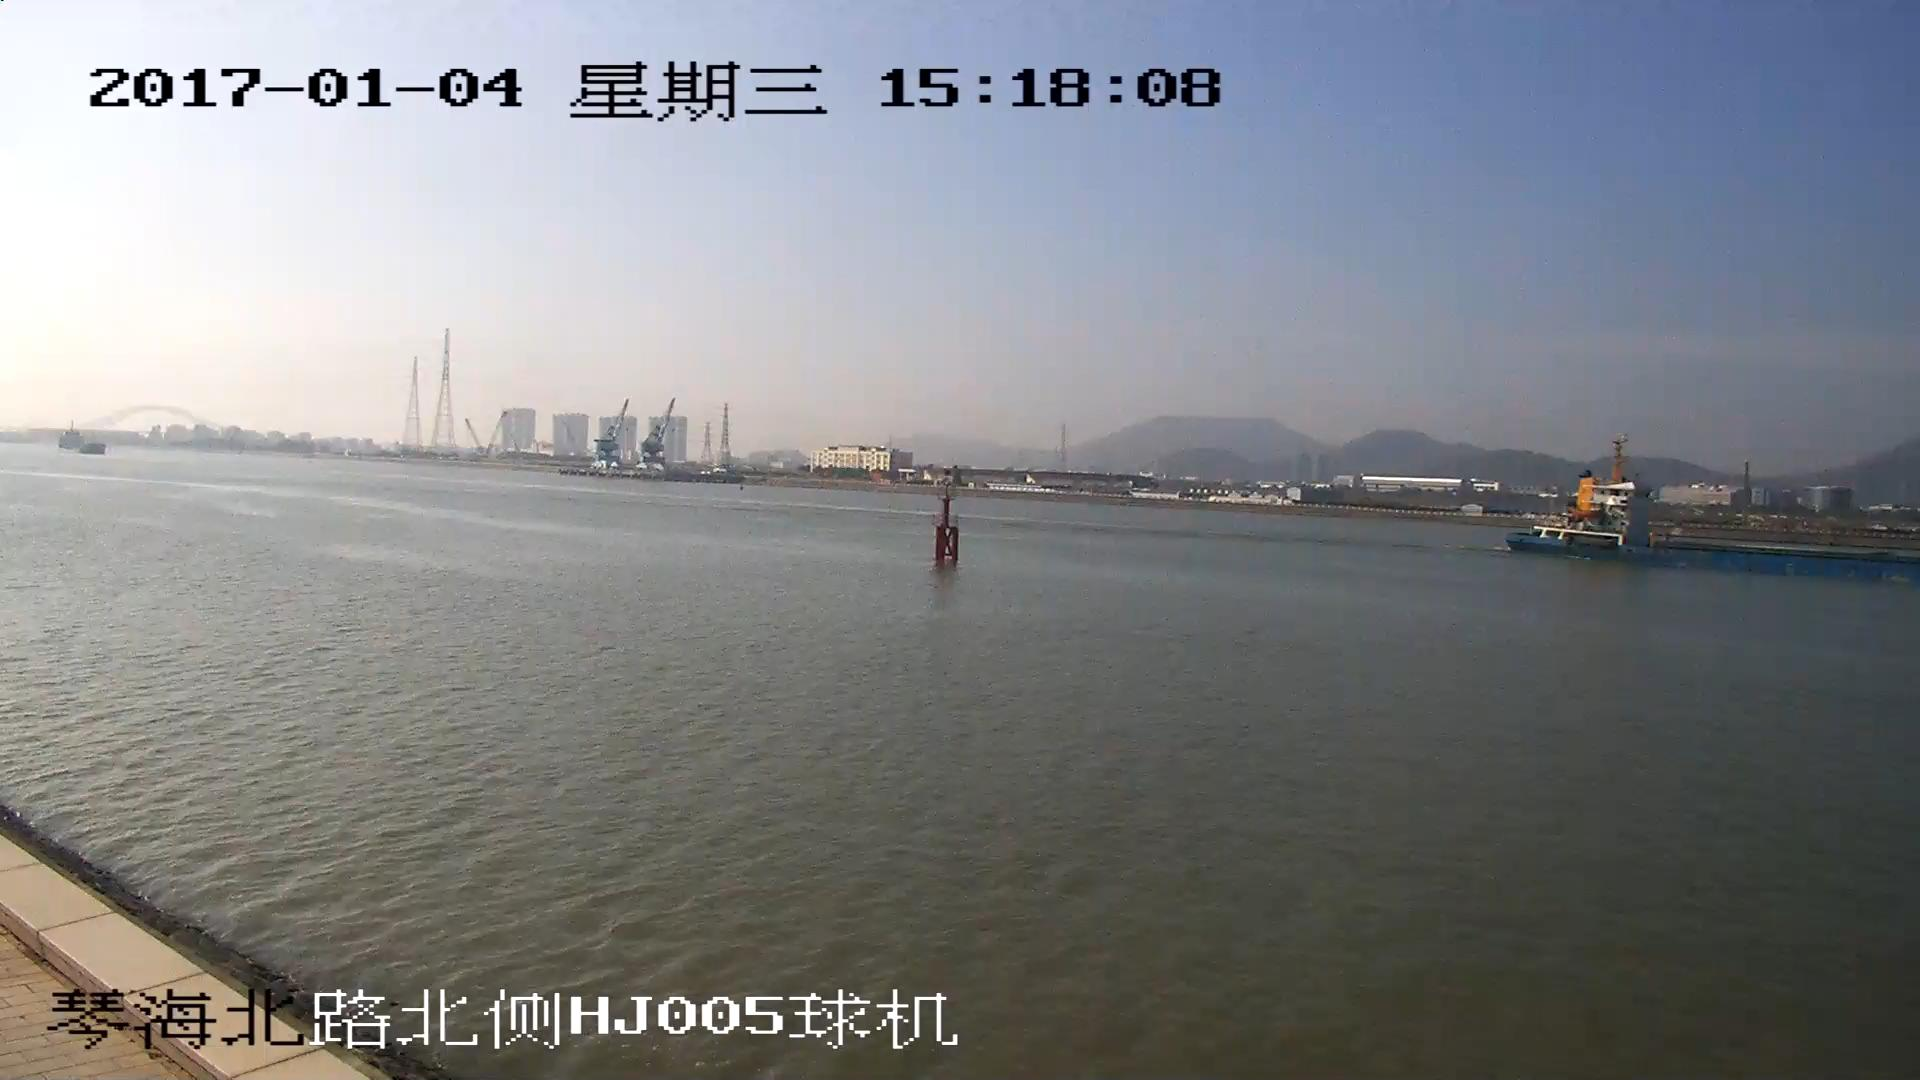general cargo ship: (1511, 440, 1920, 576)
